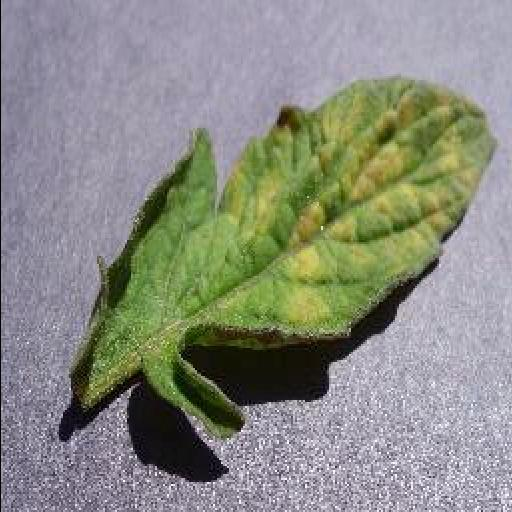disease_tomato: (70, 76, 500, 442)
